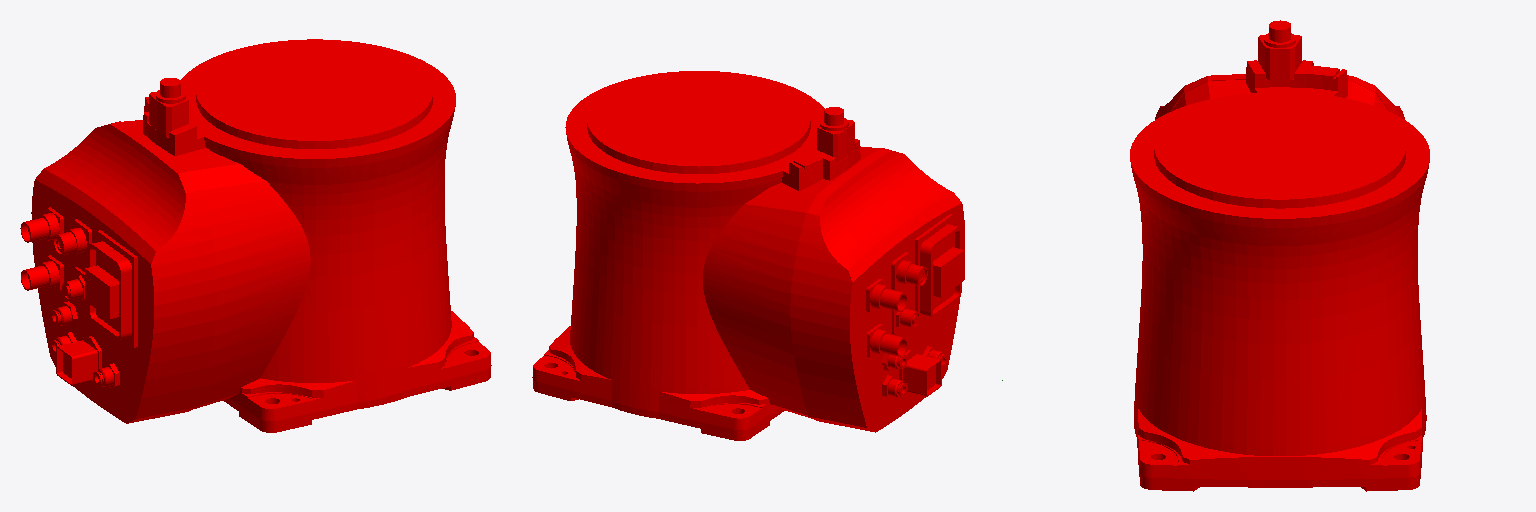
robot.urdf — my_scara:
<?xml version="1.0"?>
<robot name="my_scara">
  
  <!-- materialy -->
  <material name="red">
    <color rgba="1.0 0.0 0.0 1.0"/>
  </material>
  
  <material name="green">
    <color rgba="0.0 1.0 0.0 1.0"/>
  </material>
  
  <material name="blue">
    <color rgba="0.0 0.0 1.0 1.0"/>
  </material>
  
  
  <!-- czlony -->
  <link name="base_link">
    <visual>
      <geometry>
        <mesh filename="package://my_scara/meshes/Base.dae"/>
      </geometry>
      <origin rpy="0 0 0" xyz="0 0 0.5"/>
      <material name="red"/>
    </visual>
    <collision>
      <geometry>
        <cylinder length="1" radius="0.1"/>
      </geometry>
      <origin rpy="0 0 0" xyz="0 0 0.5"/>
    </collision>
    <inertial>
      <origin rpy="0 0 0" xyz="0 0 0.5"/>
      <mass value="10"/>
      <inertia ixx="0.86" ixy="0" ixz="0" iyy="0.86" iyz="0" izz="0.05"/>
    </inertial>
  </link>
  
  <link name="arm_link">
    <visual>
      <geometry>
        <box size="1.2 0.2 0.1"/>
      </geometry>
      <origin rpy="0 0 0" xyz="0.5 0 0.05"/>
      <material name="green"/>
    </visual>
    <collision>
      <geometry>
        <box size="1.2 0.2 0.1"/>
      </geometry>
      <origin rpy="0 0 0" xyz="0.5 0 0.05"/>
    </collision>
    <inertial>
      <origin rpy="0 0 0" xyz="0.5 0 0.05"/>
      <mass value="10"/>
      <inertia ixx="0.042" ixy="0" ixz="0" iyy="1.21" iyz="0" izz="1.23"/>
    </inertial>
  </link>
  
  <link name="forearm_link">
    <visual>
      <geometry>
        <box size="1.2 0.2 0.1"/>
      </geometry>
      <origin rpy="0 0 0" xyz="0.5 0 0.05"/>
      <material name="blue"/>
    </visual>
    <collision>
      <geometry>
        <box size="1.2 0.2 0.1"/>
      </geometry>
      <origin rpy="0 0 0" xyz="0.5 0 0.05"/>
    </collision>
    <inertial>
      <origin rpy="0 0 0" xyz="0.5 0 0.05"/>
      <mass value="10"/>
      <inertia ixx="0.042" ixy="0" ixz="0" iyy="1.21" iyz="0" izz="1.23"/>
    </inertial>
  </link>
  
  <link name="column_link">
    <visual>
      <geometry>
        <cylinder length="1" radius="0.025"/>
      </geometry>
      <origin rpy="0 0 0" xyz="0 0 -0.5"/>
      <material name="red"/>
    </visual>
    <collision>
      <geometry>
        <cylinder length="1" radius="0.025"/>
      </geometry>
      <origin rpy="0 0 0" xyz="0 0 -0.5"/>
    </collision>
    <inertial>
      <origin rpy="0 0 0" xyz="0 0 -0.5"/>
      <mass value="5"/>
      <inertia ixx="0.42" ixy="0" ixz="0" iyy="0.42" iyz="0" izz="0.0016"/>
    </inertial>
  </link>
  
  
  <!-- zlacza -->
  <joint name="shoulder_joint" type="revolute">
    <parent link="base_link"/>
    <child link="arm_link"/>
    <axis xyz="0 0 1"/>
    <origin rpy="0 0 0" xyz="0 0 1"/>
    <limit effort="1000.0" lower="-6.28" upper="6.28" velocity="1.0"/>
  </joint>
  
  <joint name="elbow_joint" type="revolute">
    <parent link="arm_link"/>
    <child link="forearm_link"/>
    <axis xyz="0 0 1"/>
    <origin rpy="0 0 0" xyz="1 0 -0.1"/>
    <limit effort="1000.0" lower="-6.28" upper="6.28" velocity="1.0"/>
  </joint>
  
  <joint name="wrist_joint" type="prismatic">
    <parent link="forearm_link"/>
    <child link="column_link"/>
    <axis xyz="0 0 1"/>
    <origin rpy="3.1416 0 0" xyz="1 0 0"/>
    <limit effort="1000.0" lower="0" upper="0.9" velocity="10.0"/>
  </joint>
  
</robot>

--- What the picture shows (computed from the rendered views, not written in the file) ---
The picture shows the robot from 3 angles, left to right: view 1: azimuth 30°, elevation 25°; view 2: azimuth 150°, elevation 25°; view 3: azimuth 270°, elevation 25°; orthographic projection.
Robot: my_scara — 4 links, 3 joints (2 revolute, 1 prismatic); root link base_link; default pose: all joints at 0.
Links seen in each view (by area): view 1: base_link; view 2: base_link; view 3: base_link.
Boxes of the visible links, <box> form: base_link: <box>20,39,491,432</box>; base_link: <box>532,71,964,440</box>; base_link: <box>1130,20,1429,491</box>.
Bounding box of the posed robot: 329 × 215 × 261 m (x, y, z).
Meshes: 1 distinct files referenced, 1 mesh visuals loaded (1 Collada DAE).